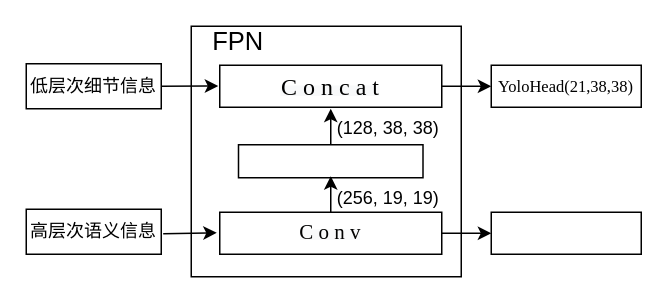
Some shapes in this 668 by 303 pixel diagram are drawn without their labels. Each missing label, with the centre of its shape:
"Conv + UpSampling" belongs at point (330, 160).
"YoloHead(21,19,19)" belongs at point (565, 232).
